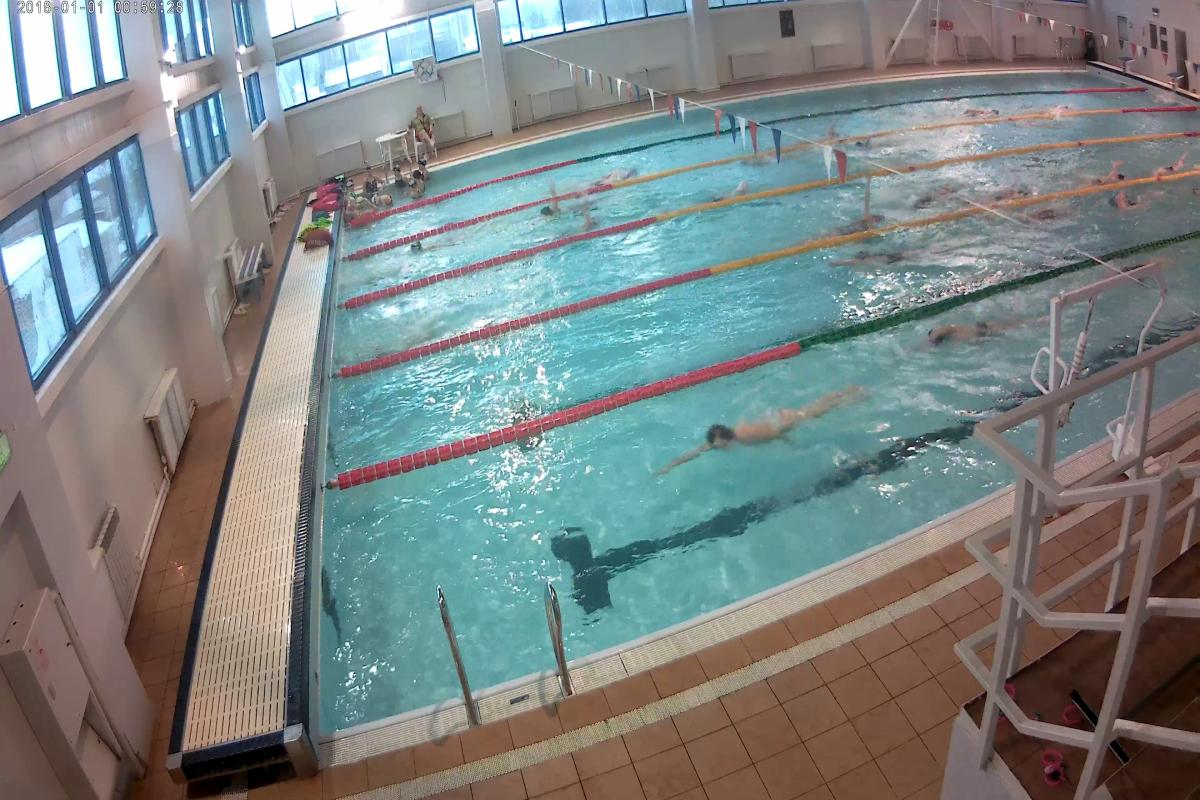swimmer: (688, 394, 854, 452), (922, 312, 1021, 339), (833, 247, 930, 273), (838, 205, 902, 234), (928, 177, 969, 209), (1107, 187, 1153, 209), (1006, 206, 1075, 215), (997, 183, 1032, 197)
